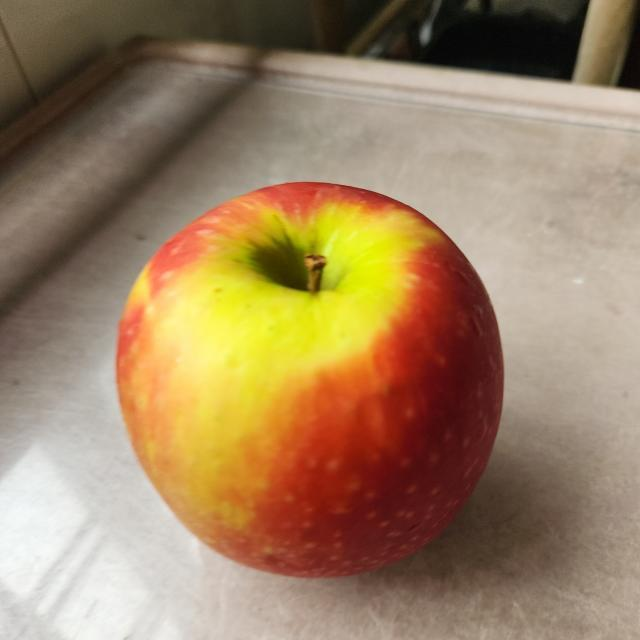apple: (104, 168, 510, 588)
